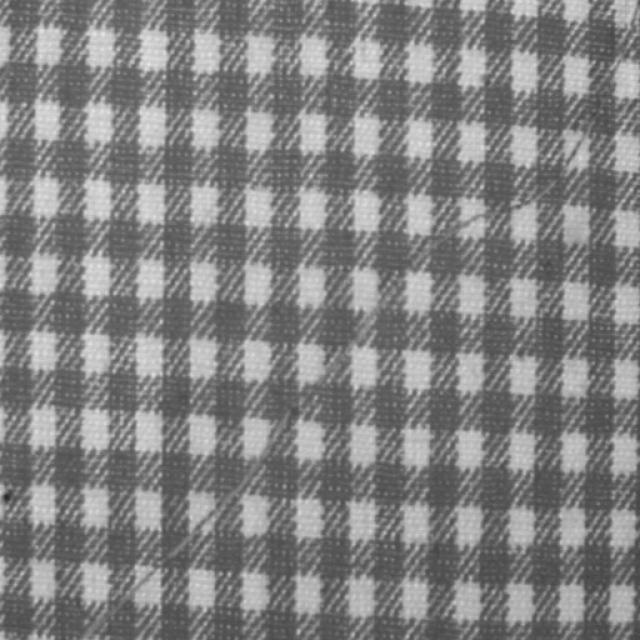Foreign-Body-Defect: (70, 170, 573, 639)
